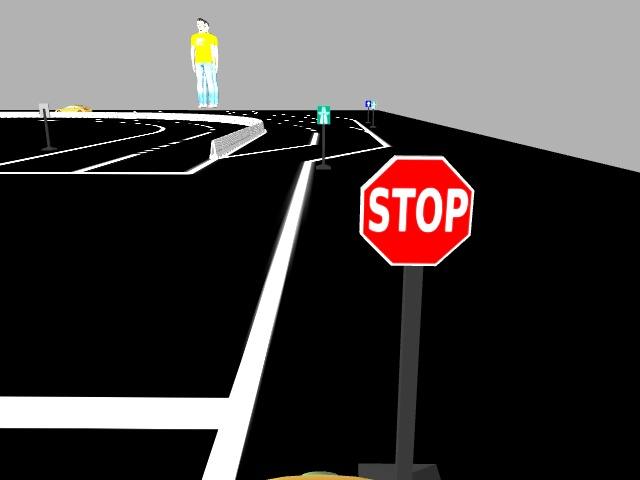Stop: (358, 153, 476, 267)
